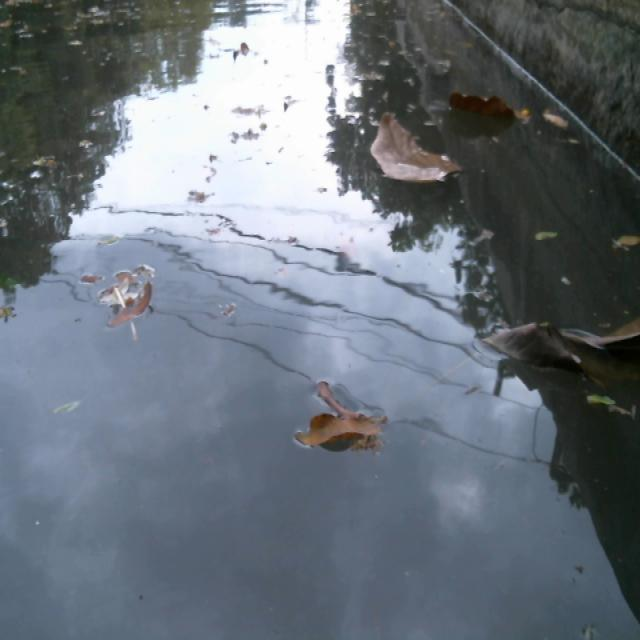Big-leaf: (472, 313, 640, 386), (361, 103, 462, 200), (291, 407, 389, 468), (448, 81, 532, 124)
Small-leaf: (94, 261, 175, 347), (318, 372, 378, 423), (588, 387, 639, 425), (230, 93, 282, 129), (227, 124, 272, 154), (540, 104, 572, 145), (612, 229, 640, 271), (462, 227, 497, 259), (228, 41, 269, 67), (535, 215, 562, 253), (56, 393, 84, 422), (220, 294, 241, 322)
